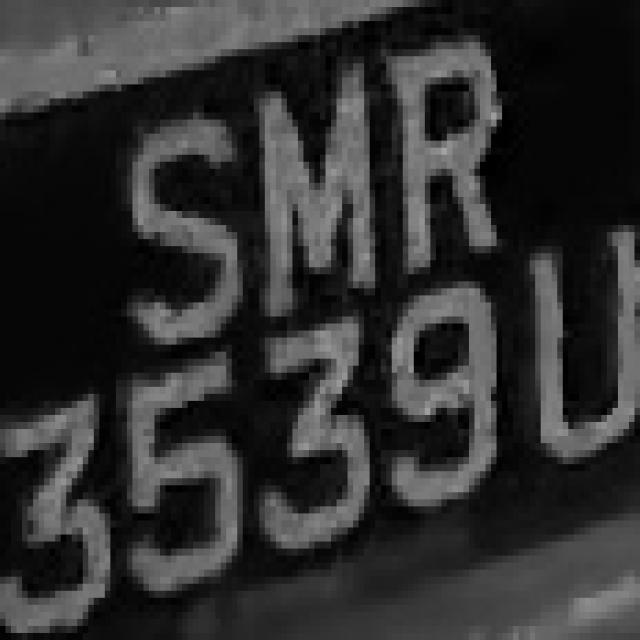3: (248, 310, 392, 570), (16, 373, 110, 633)
5: (116, 352, 248, 612)
9: (370, 296, 508, 534)
M: (232, 77, 381, 296)
R: (380, 42, 530, 260)
S: (110, 98, 248, 344)
U: (530, 218, 634, 471)
